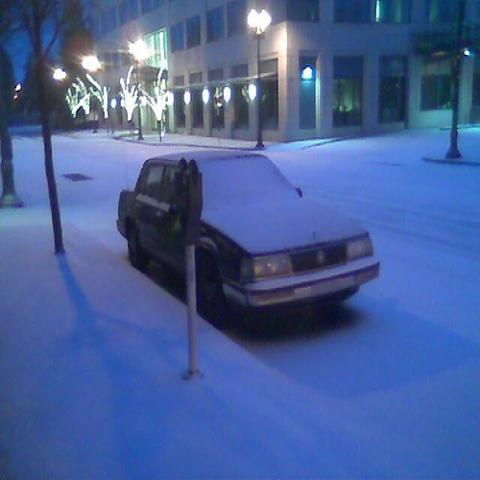car: (114, 148, 379, 330)
